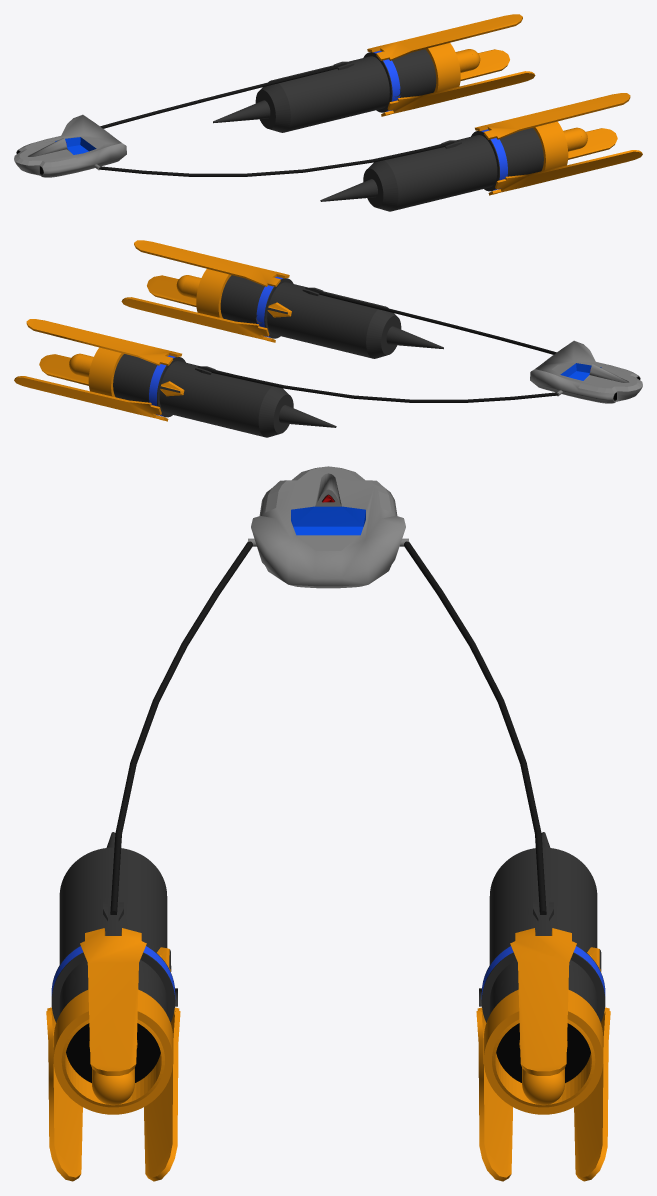
Rendered from PodPod.FBX.
The picture shows the model from 3 angles, top to bottom: view 1: azimuth 30°, elevation 25°; view 2: azimuth 150°, elevation 25°; view 3: azimuth 270°, elevation 25°; orthographic projection. The views are drawn at different scales.
Parts seen in each view (by area): view 1: Pod Racer; view 2: Pod Racer; view 3: Pod Racer.
Part boxes in pixels (x1,y1,x2,y2): Pod Racer: (14, 14, 642, 211); Pod Racer: (14, 240, 642, 437); Pod Racer: (46, 466, 610, 1181).
Bounding box in the file's own units: 480 × 84.22 × 210.
